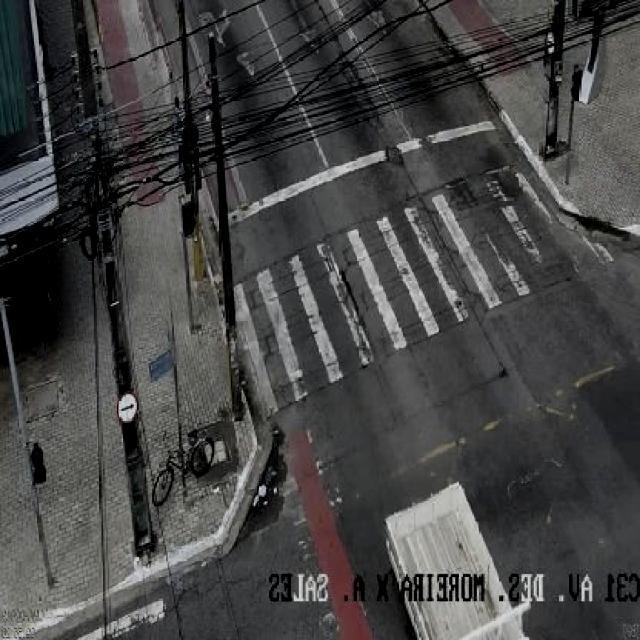Cycle: (150, 429, 217, 509)
Van: (381, 481, 533, 640)
